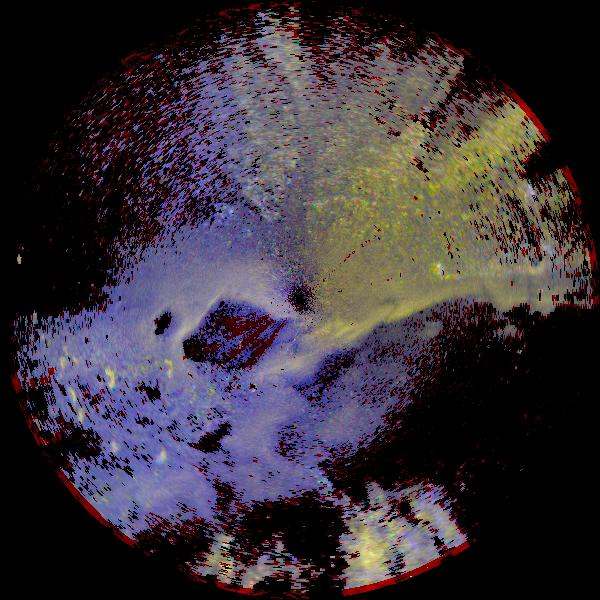roost: (95, 368, 119, 392), (102, 430, 126, 454), (152, 440, 176, 464), (156, 362, 174, 380)
